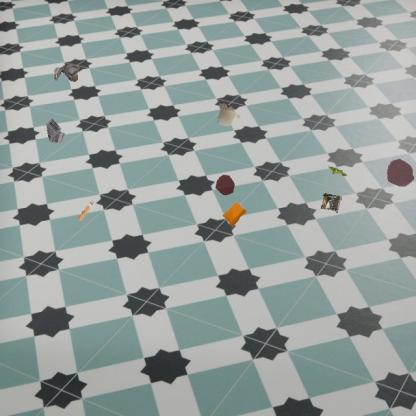dirty: (220, 200, 249, 230), (44, 115, 67, 148), (215, 101, 242, 129), (51, 61, 81, 84), (319, 192, 342, 212), (76, 200, 96, 221), (325, 163, 349, 178)
liquid: (386, 157, 416, 188), (214, 173, 236, 197)
